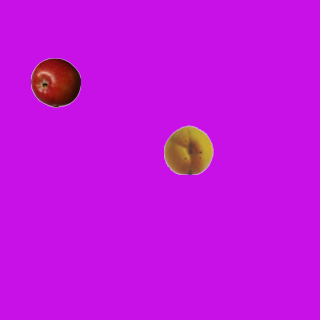Apple Braeburn: (30, 57, 80, 107)
Peach 2: (163, 124, 213, 174)
